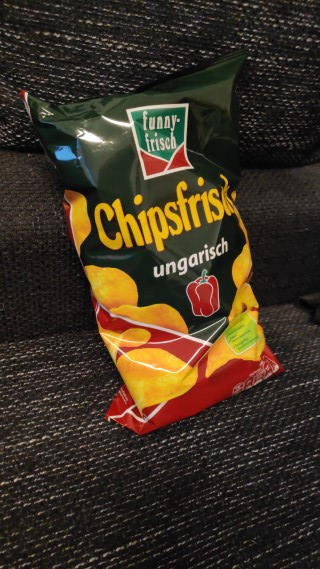chipsfrisch: (17, 45, 288, 438)
